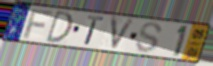1: (172, 25, 190, 58)
D: (44, 9, 74, 44)
F: (22, 8, 54, 40)
S: (134, 21, 164, 54)
T: (83, 14, 106, 47)
V: (108, 15, 137, 53)
